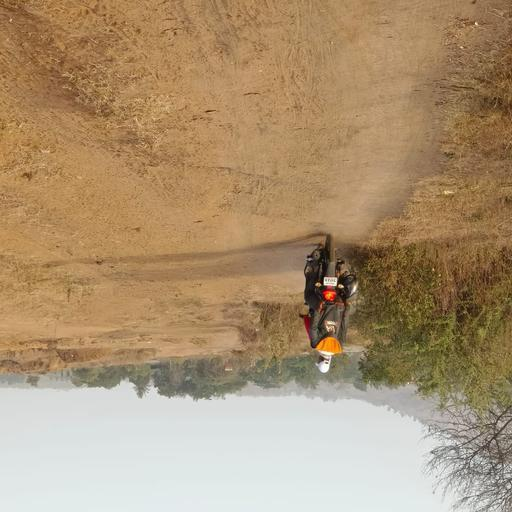vehicle_track: (171, 0, 457, 294)
